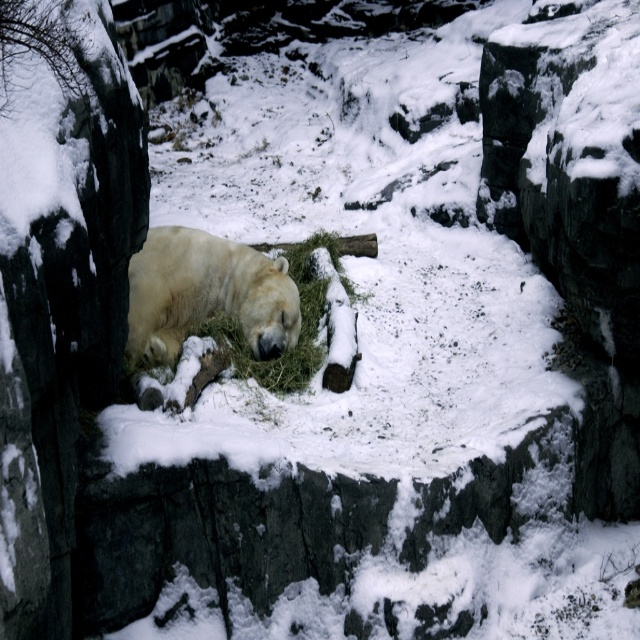Polar bear: (129, 229, 307, 403)
